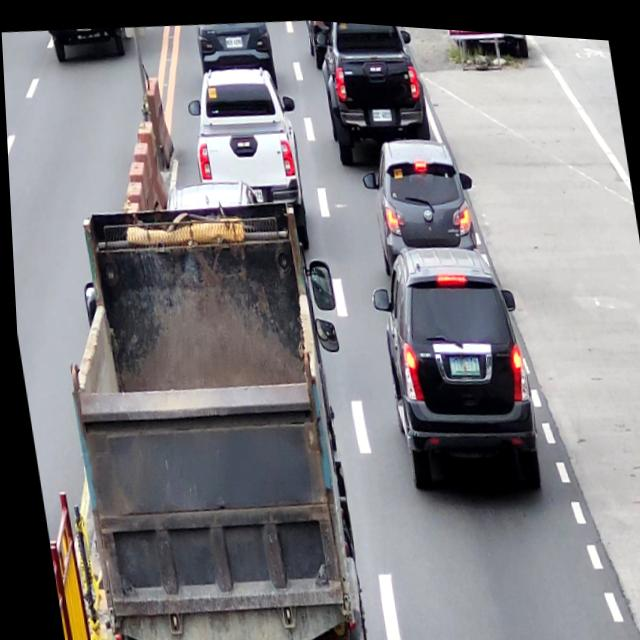Car: (362, 227, 542, 500), (181, 58, 316, 254), (353, 123, 485, 273), (313, 16, 435, 169), (193, 14, 278, 99), (159, 173, 257, 215)
License-Plate: (444, 347, 476, 372), (370, 102, 391, 119), (224, 33, 243, 47), (248, 184, 261, 199)
Truck: (38, 184, 384, 640)
